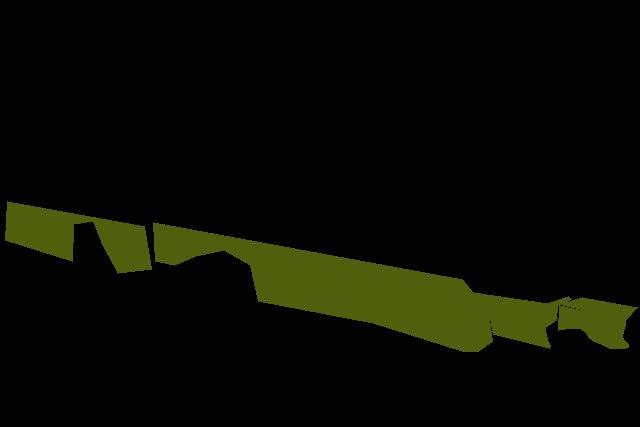Train: (5, 201, 492, 351), (473, 292, 637, 349)
